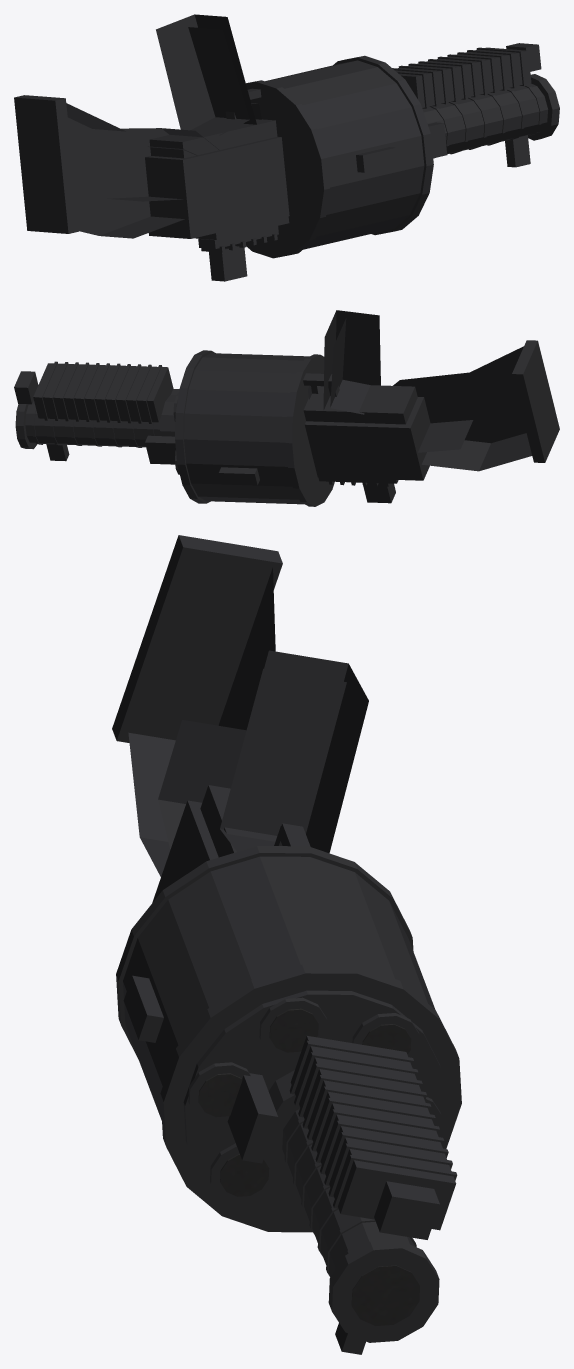
Rendered from six_chamber_launcher_lowpoly.glb.
The picture shows the model from 3 angles, top to bottom: view 1: azimuth 30°, elevation 25°; view 2: azimuth 150°, elevation 25°; view 3: azimuth 270°, elevation 25°; orthographic projection. The views are drawn at different scales.
Visible parts, largest first — view 1: Six_chamber_launcher; view 2: Six_chamber_launcher; view 3: Six_chamber_launcher.
Part boxes in pixels (box(x1,y1,x2,y2)): Six_chamber_launcher: box(14, 14, 559, 281); Six_chamber_launcher: box(14, 310, 559, 506); Six_chamber_launcher: box(112, 535, 461, 1354).
Bounding box in the file's own units: 0.8278 × 0.3499 × 0.2602.
6 materials, 1 textured.
